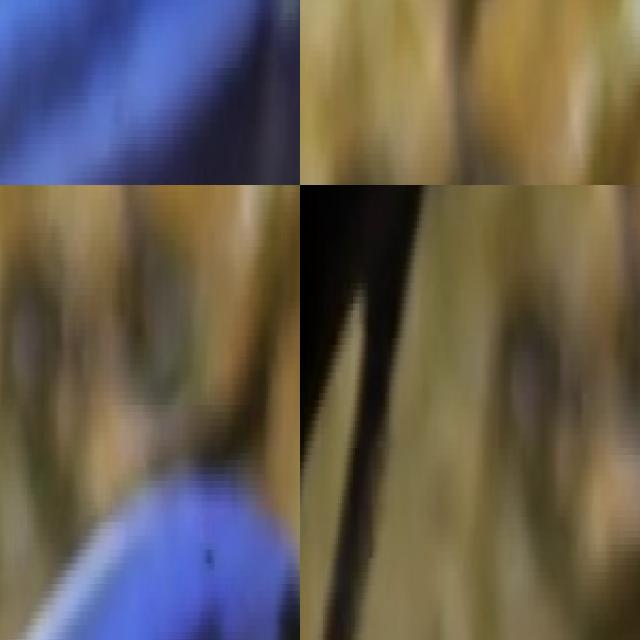fish: (300, 185, 640, 640), (0, 0, 300, 185)
